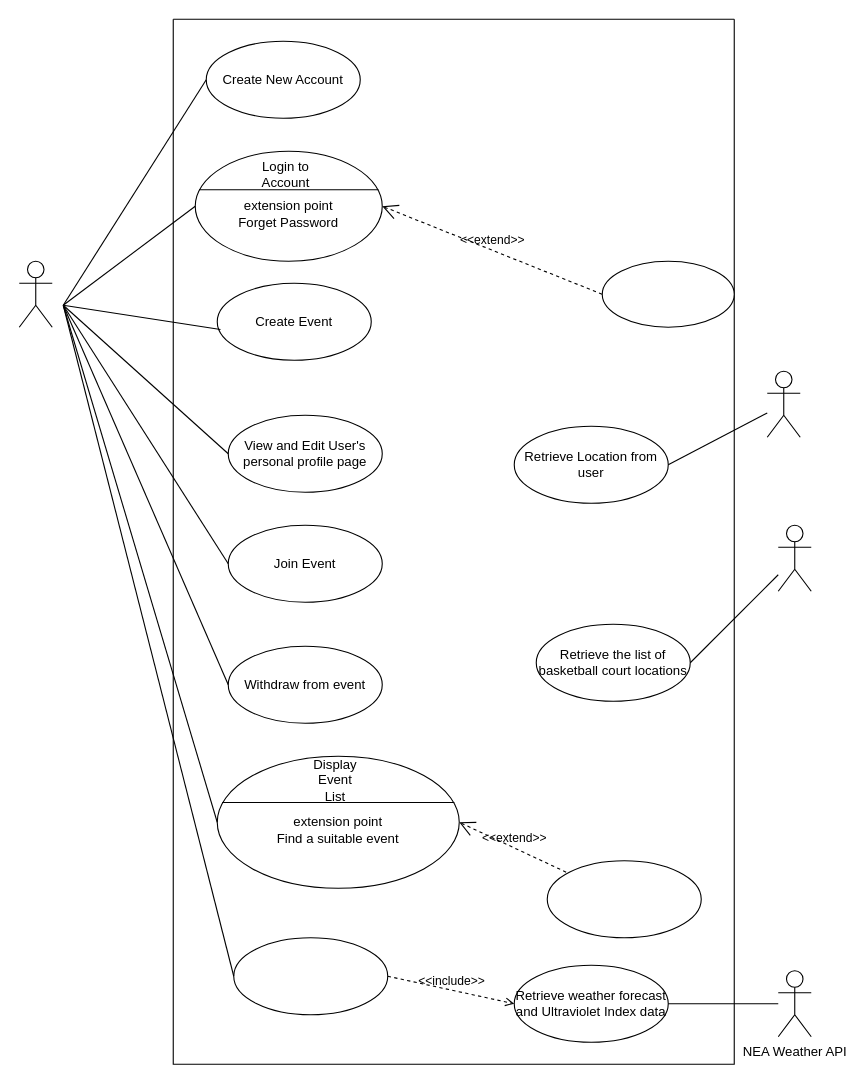
The diagram is 866 pixels wide and 1084 high, and some of its shapes have lost their labels. Each missing label, with the centre of its shape:
"Actor" belongs at pixel 35 293.
"Change Password" belongs at pixel 667 293.
"Filter Event" belongs at pixel 623 899.
"Geolocation API" belongs at pixel 783 403.
"Google Maps API" belongs at pixel 794 557.
"View Event Information" belongs at pixel 310 976.
